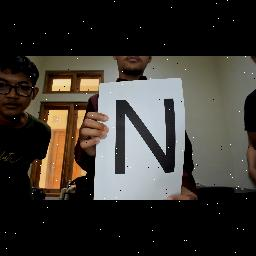n: (104, 92, 182, 180)
